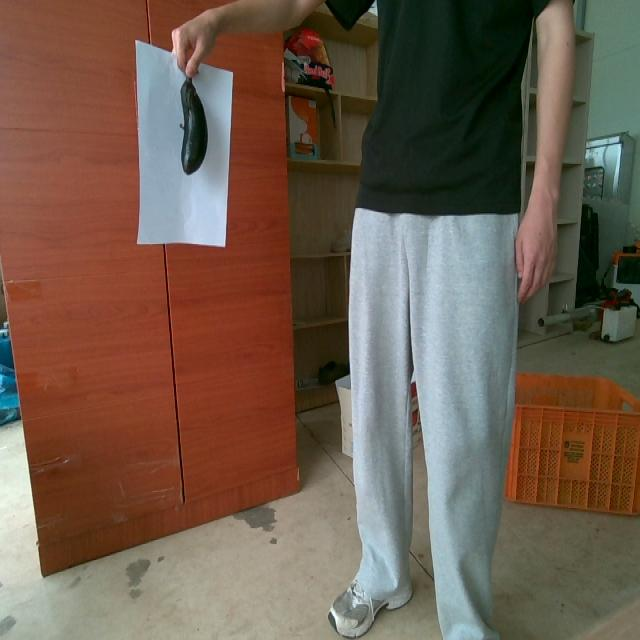Egg plant: (180, 77, 207, 173)
